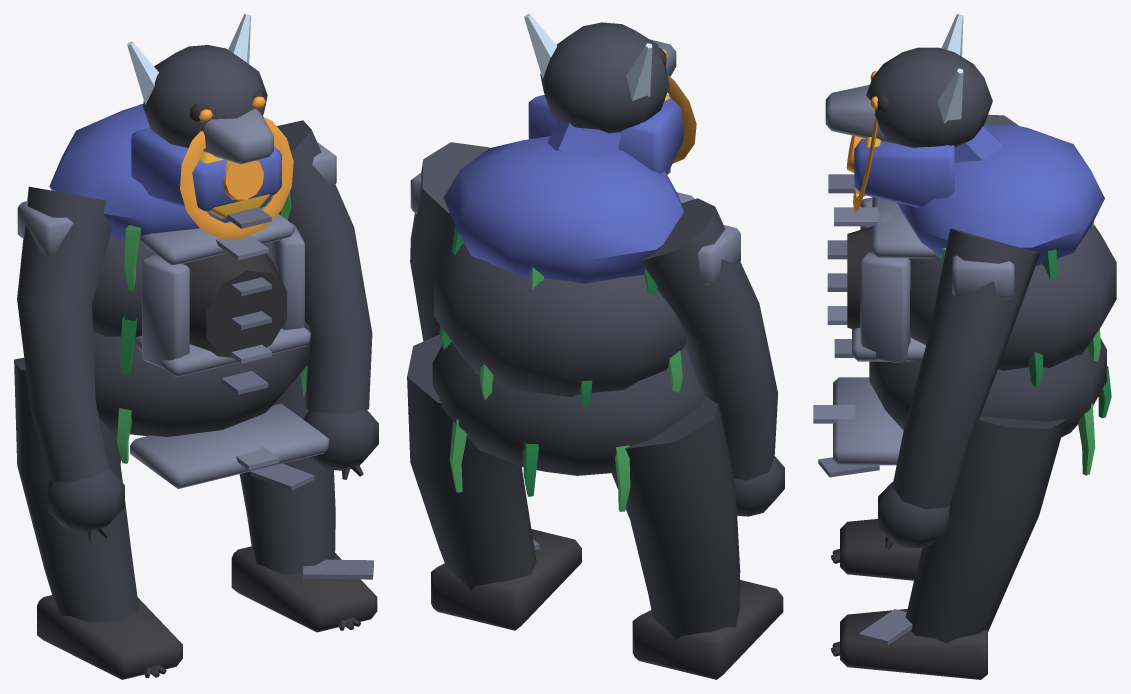
Rendered from drowned_colossus.glb.
3 views of the same model, side by side, from view 1: azimuth 30°, elevation 25°; view 2: azimuth 150°, elevation 25°; view 3: azimuth 270°, elevation 25° (orthographic). The views are drawn at different scales.
Visible parts, largest first — view 1: DrownedColossus; view 2: DrownedColossus; view 3: DrownedColossus.
Part boxes in pixels (x1=…): DrownedColossus: x1=14, y1=14, x2=378, y2=679; DrownedColossus: x1=407, y1=14, x2=784, y2=679; DrownedColossus: x1=813, y1=14, x2=1116, y2=679.
Size of the model in its own units: 3.23 by 5.4 by 2.58.
1 material, 1 textured.
